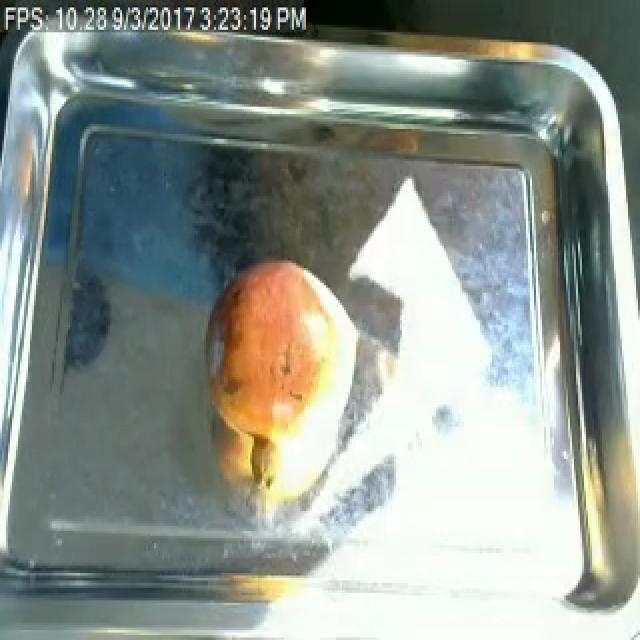fruit: (194, 238, 362, 464)
